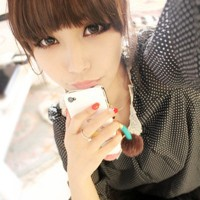face: (36, 1, 122, 102)
